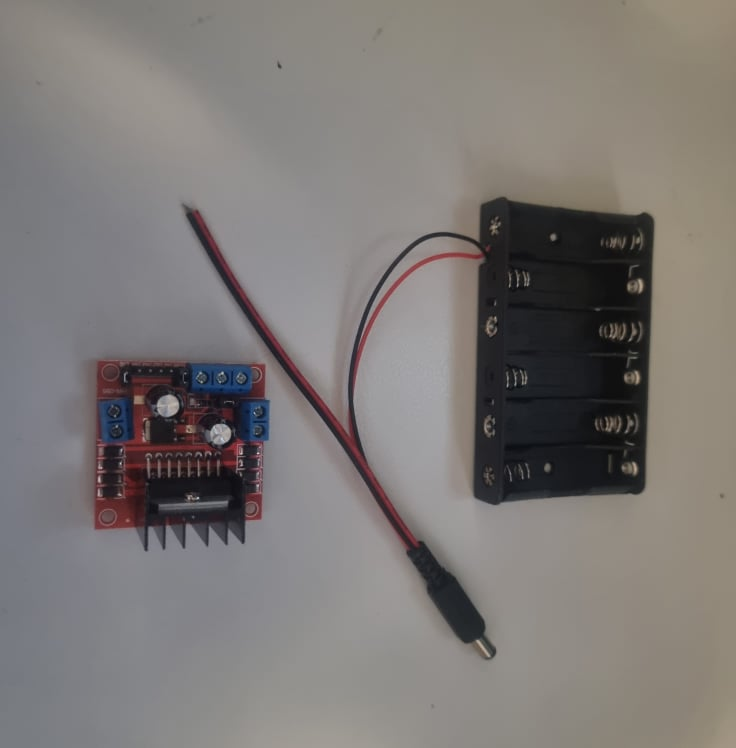BATTERY BOX: (476, 195, 652, 506)
MOTOR: (96, 360, 270, 551)
